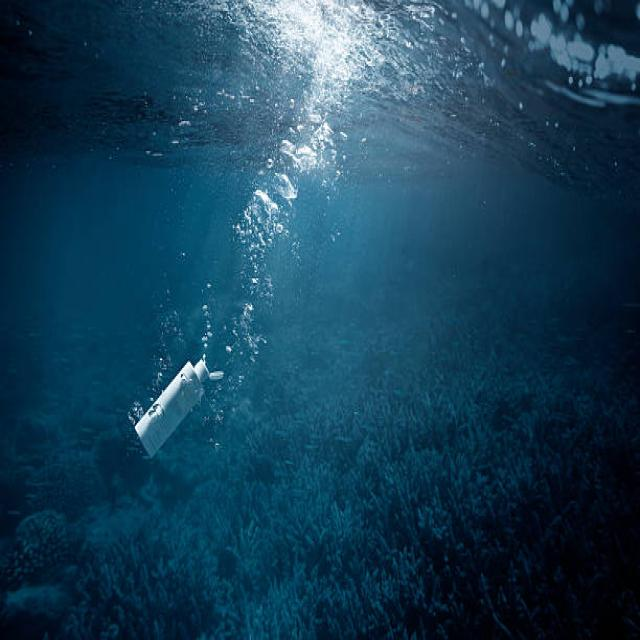plastic: (116, 333, 254, 453)
